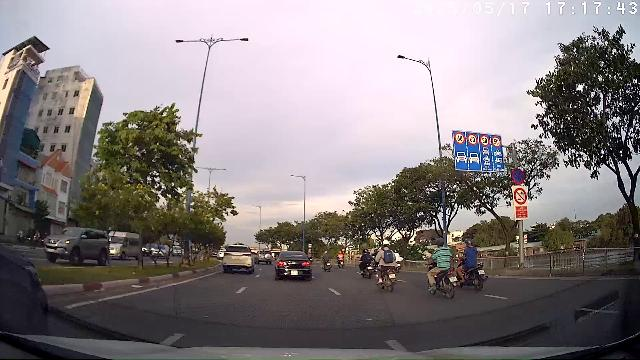127-toc-do-toi-da-50: (480, 134, 490, 146), (492, 136, 501, 148)
127-toc-do-toi-da-60: (454, 132, 466, 144), (467, 134, 478, 146)
130-cam-dung-va-do-xe: (511, 168, 525, 185)
